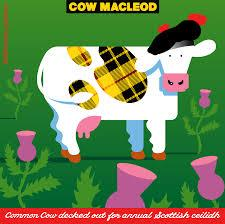cow: (36, 20, 216, 163)
